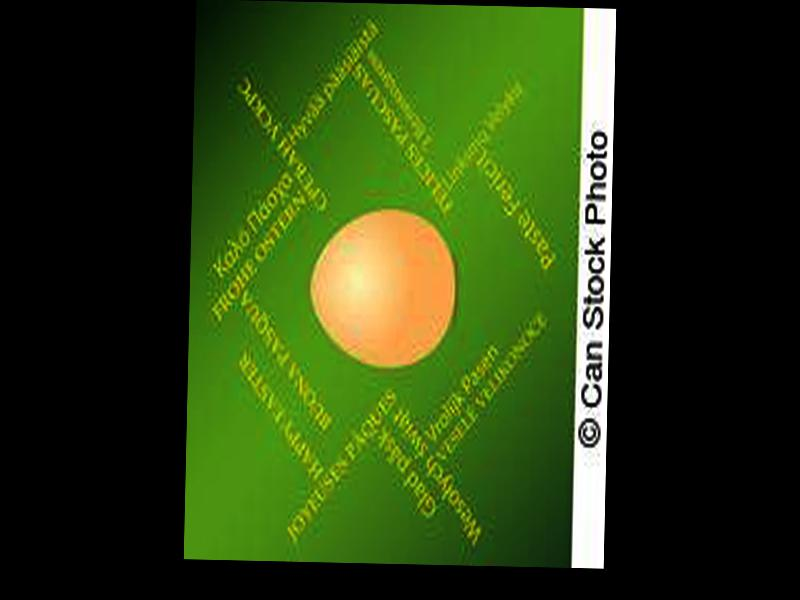Eggs: (309, 210, 456, 368)
